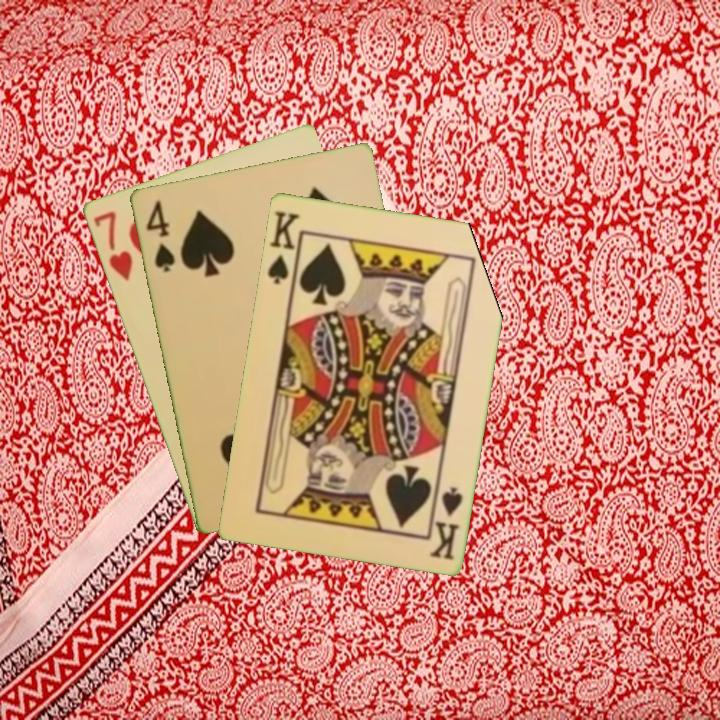4s: (142, 196, 178, 275)
7h: (89, 207, 135, 284)
Ks: (426, 483, 465, 563), (263, 207, 301, 287)
